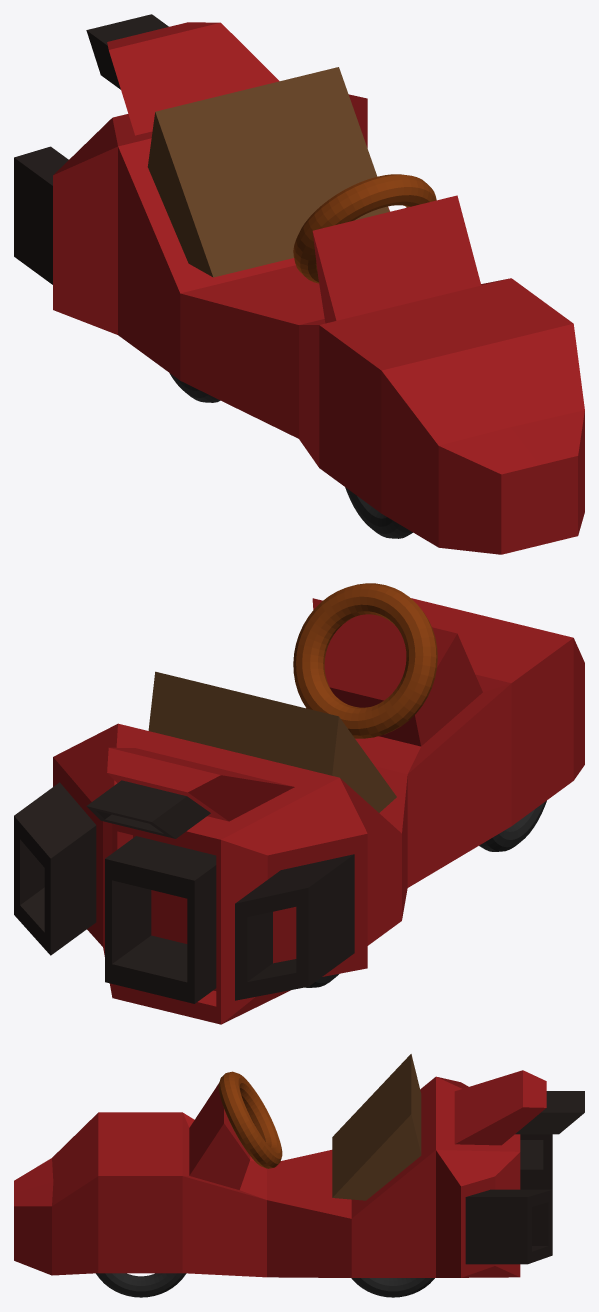
The model's file is Grandma'sSickRide.fbx.
The picture shows the model from 3 angles, top to bottom: view 1: azimuth 30°, elevation 25°; view 2: azimuth 150°, elevation 25°; view 3: azimuth 270°, elevation 25°; orthographic projection. The views are drawn at different scales.
Parts seen in each view (by area): view 1: GrandmasRide; view 2: GrandmasRide; view 3: GrandmasRide.
Part boxes in pixels (box(x1,y1,x2,y2)): GrandmasRide: box(14, 14, 584, 554); GrandmasRide: box(14, 583, 584, 1024); GrandmasRide: box(14, 1054, 584, 1297).
Size of the model in its own units: 579 by 515 by 1340.
